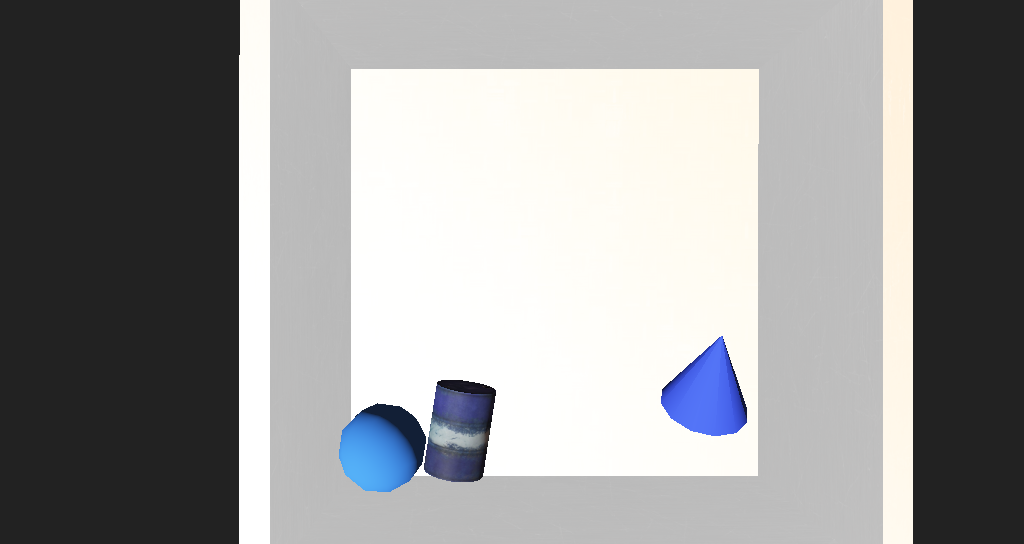cone: (408, 327, 468, 379)
cylinder: (579, 286, 660, 353)
sphere: (344, 334, 411, 382)
